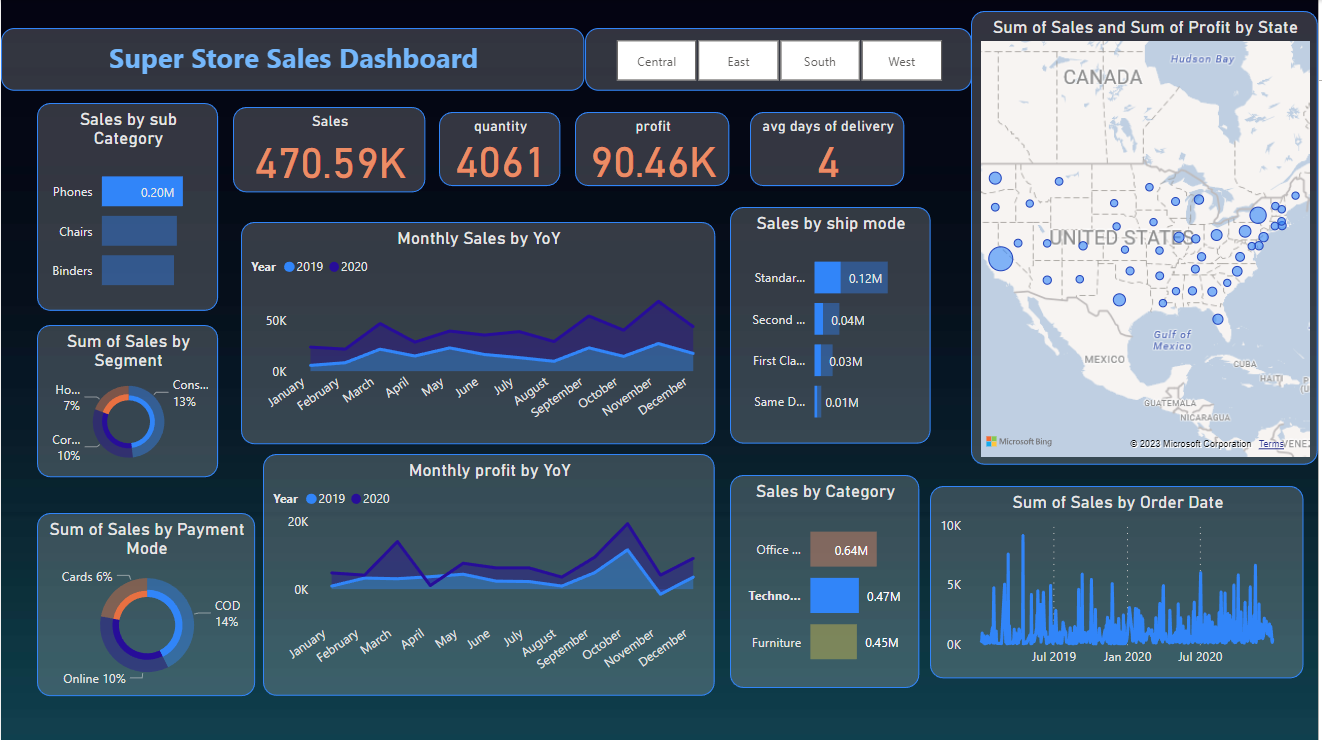

Layout of this report page (visuals, bound fields, positions):
{"tool":"powerbi","page":{"name":"Page 1","canvas":[1280,720],"ordinal":0},"visuals":[{"type":"clusteredBarChart","title":" Sales by Category","fields":{"Category":["Sheet1.Category"],"Y":["Sum(Sheet1.Sales)"]},"box":[708.5,461.7,183.7,207],"z":0},{"type":"clusteredBarChart","title":" Sales by sub Category","fields":{"Category":["Sheet1.Sub-Category"],"Y":["Sum(Sheet1.Sales)"]},"box":[35,100.1,175.9,202.2],"z":1000},{"type":"clusteredBarChart","title":" Sales by ship mode","fields":{"Category":["Sheet1.Ship Mode"],"Y":["Sum(Sheet1.Sales)"]},"box":[708.2,200.8,194.7,229.9],"z":2000},{"type":"stackedAreaChart","title":"Monthly Sales by YoY","fields":{"Y":["Sum(Sheet1.Sales)"],"Category":["Sheet1.Order Date.Variation.Date Hierarchy.Month"],"Series":["Sheet1.Order Date.Variation.Date Hierarchy.Year"]},"box":[233.3,215.8,460.7,215.8],"z":3000},{"type":"stackedAreaChart","title":"Monthly profit by YoY","fields":{"Category":["Sheet1.Order Date.Variation.Date Hierarchy.Month"],"Series":["Sheet1.Order Date.Variation.Date Hierarchy.Year"],"Y":["Sum(Sheet1.Profit)"]},"box":[254.6,441.2,439.3,235.2],"z":4000},{"type":"map","fields":{"Category":["Sheet1.State"],"Size":["Sum(Sheet1.Sales)"]},"box":[942.7,10.7,337.3,441.2],"z":5000},{"type":"donutChart","fields":{"Category":["Sheet1.Segment"],"Y":["Sum(Sheet1.Sales)"]},"box":[35,315.9,175.9,147.7],"z":6000},{"type":"donutChart","fields":{"Category":["Sheet1.Payment Mode"],"Y":["Sum(Sheet1.Sales)"]},"box":[35,498.6,211.9,177.9],"z":7000},{"type":"slicer","fields":{"Values":["Sheet1.Region"]},"box":[567.2,27.6,375.6,61.3],"z":8000},{"type":"textbox","box":[0,27.6,567.2,61.3],"z":9000},{"type":"card","title":"Sales","fields":{"Values":["Sum(Sheet1.Sales)"]},"box":[225.3,104.2,187,82.8],"z":10000},{"type":"card","title":"quantity","fields":{"Values":["Sum(Sheet1.Quantity)"]},"box":[426.2,108.8,118,72],"z":11000},{"type":"card","title":"profit","fields":{"Values":["Sum(Sheet1.Profit)"]},"box":[558,108.8,150.2,72],"z":12000},{"type":"card","title":"avg days of delivery","fields":{"Values":["Avg(Sheet1.Avg delivery)"]},"box":[728.1,108.8,150.2,72],"z":13000},{"type":"lineChart","fields":{"Y":["Sum(Sheet1.Sales)"],"Category":["Sheet1.Order Date"]},"box":[902.9,472.3,363.5,186.6],"z":13001}]}

Visuals, with their boxes in screenshot pixels (x1, y1, x2, y2), scaled from the page's 1280x720 canvas onto the 1322x740 screenshot:
" Sales by Category" clusteredBarChart: locate(732, 475, 921, 687)
" Sales by sub Category" clusteredBarChart: locate(36, 103, 218, 311)
" Sales by ship mode" clusteredBarChart: locate(731, 206, 933, 443)
"Monthly Sales by YoY" stackedAreaChart: locate(241, 222, 717, 444)
"Monthly profit by YoY" stackedAreaChart: locate(263, 453, 717, 695)
map - Sheet1.State x Sum(Sheet1.Sales): locate(974, 11, 1321, 464)
donutChart - Sheet1.Segment x Sum(Sheet1.Sales): locate(36, 325, 218, 476)
donutChart - Sheet1.Payment Mode x Sum(Sheet1.Sales): locate(36, 512, 255, 695)
slicer - Sheet1.Region: locate(586, 28, 974, 91)
textbox: locate(0, 28, 586, 91)
"Sales" card: locate(233, 107, 426, 192)
"quantity" card: locate(440, 112, 562, 186)
"profit" card: locate(576, 112, 731, 186)
"avg days of delivery" card: locate(752, 112, 907, 186)
lineChart - Sum(Sheet1.Sales) x Sheet1.Order Date: locate(933, 485, 1308, 677)
